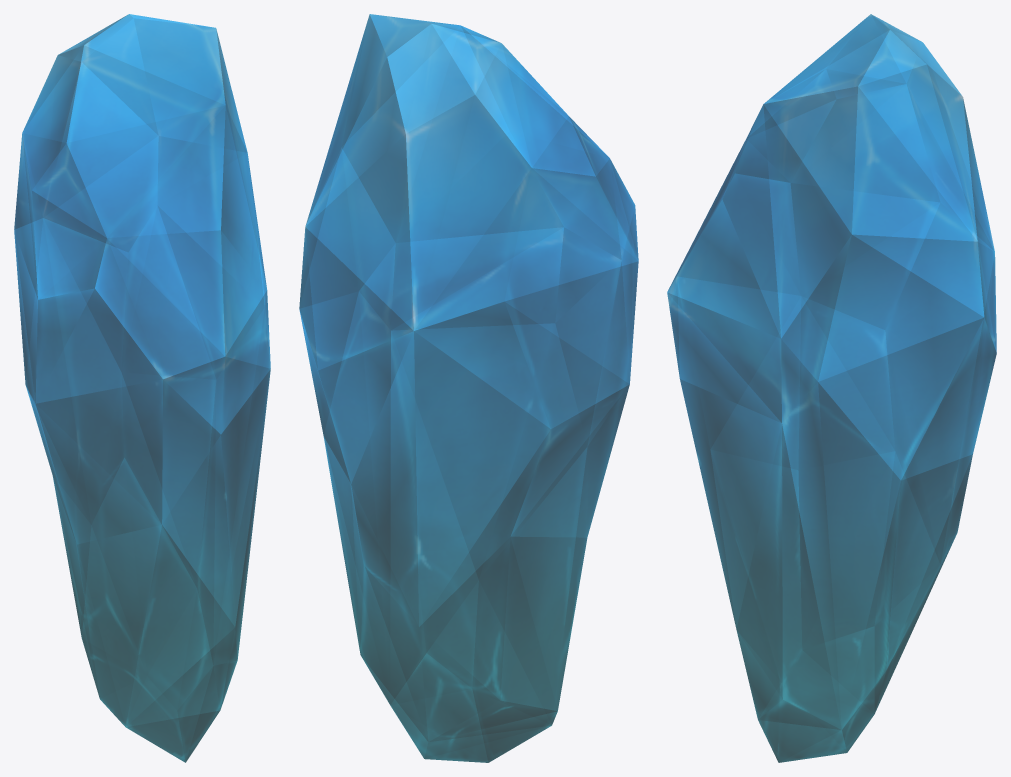
Rendered from crystal4.obj.
The picture shows the model from 3 angles, left to right: view 1: azimuth 30°, elevation 25°; view 2: azimuth 150°, elevation 25°; view 3: azimuth 270°, elevation 25°; orthographic projection. The views are drawn at different scales.
Parts seen in each view (by area): view 1: gem.006; view 2: gem.006; view 3: gem.006.
Part boxes in pixels (x1,y1,x2,y2): gem.006: (14,14,270,762); gem.006: (299,14,638,762); gem.006: (667,14,996,762).
Bounding box in the file's own units: 0.3372 × 0.9527 × 0.3889.
Materials: 1 (1 with a texture image).
